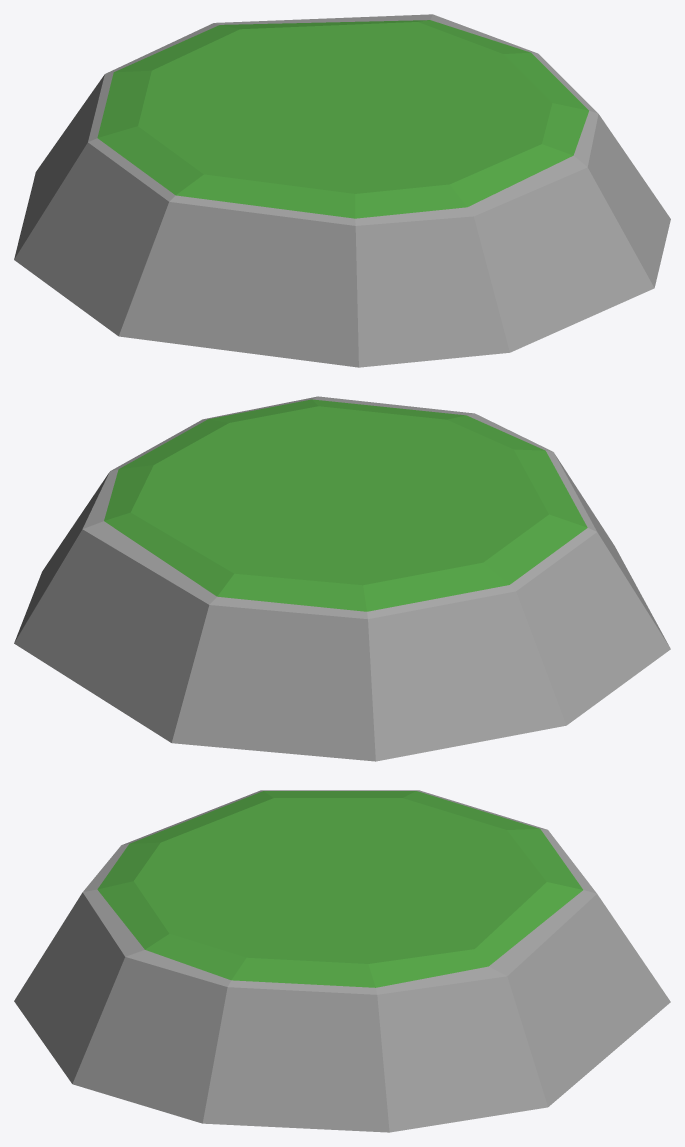
The model's file is PlatformSimple.fbx.
3 renders of one model, top to bottom at view 1: azimuth 30°, elevation 25°; view 2: azimuth 150°, elevation 25°; view 3: azimuth 270°, elevation 25°, orthographic. The views are drawn at different scales.
Parts seen in each view (by area): view 1: Circle; view 2: Circle; view 3: Circle.
Part boxes in pixels (x1,y1,x2,y2): Circle: (14,14,670,367); Circle: (14,396,670,761); Circle: (14,790,670,1132).
Size of the model in its own units: 190 by 40.49 by 200.
